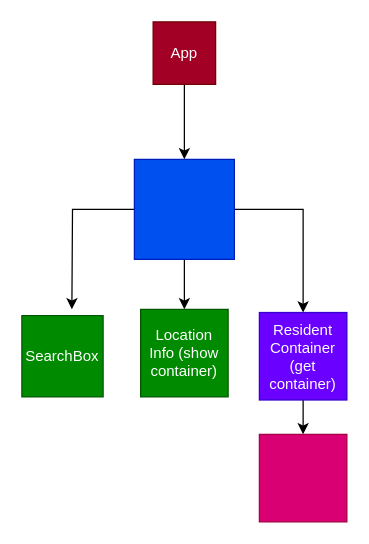
Image size: 369x544. Some labels were removed from this diagram. The shapes that lost their labels are listed below. From the top down, each one's centre as x and y in pixels, then its label:
pixel 183 208: Location Container (getcontainer)
pixel 302 477: Resident info (show container)
